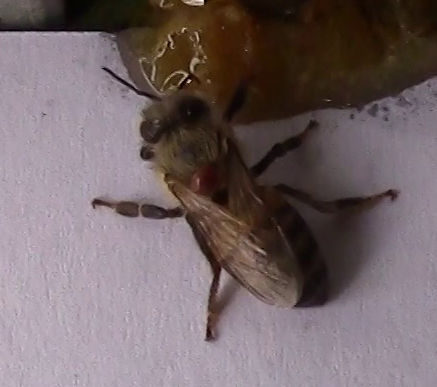Varroa destructor: (185, 159, 225, 198)
